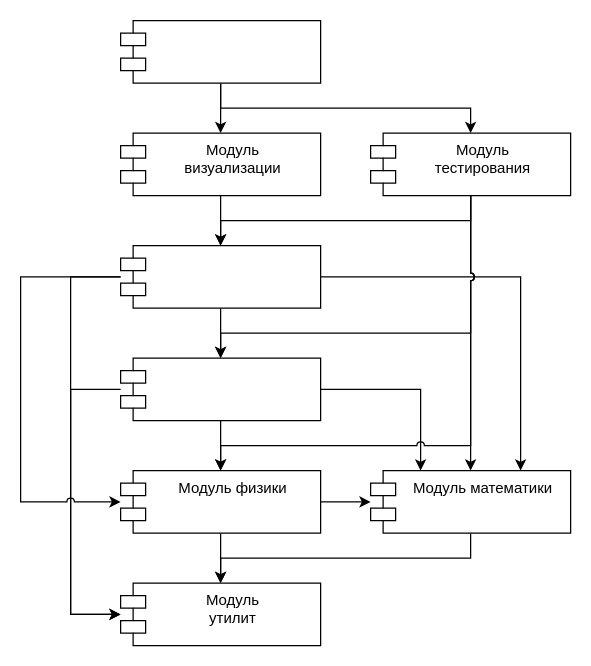
This 591x666 diagram has some shape labels left out. Here are the shapes that lost their labels. From the top down, the centre of each, then its label:
At point 220,51: "Программно- алгоритмический комплекс".
At point 220,276: "Модуль моделирования".
At point 220,389: "Модуль трассировки лучей".
